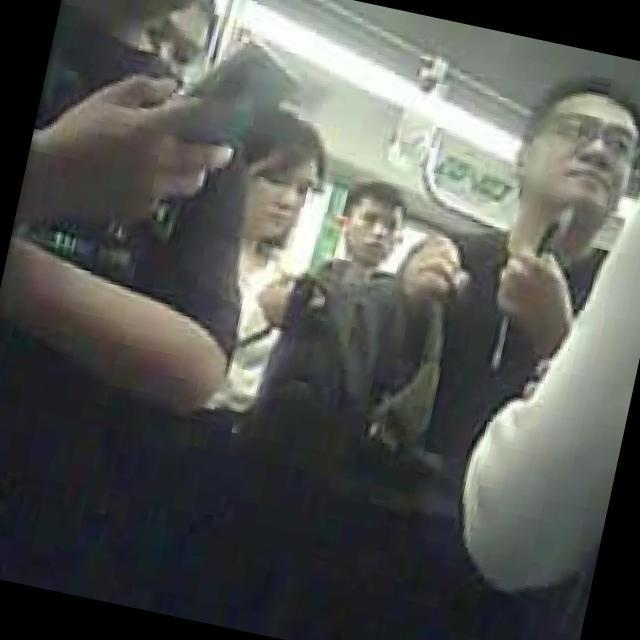person: (316, 45, 640, 640), (0, 0, 305, 581), (415, 66, 640, 640), (172, 103, 338, 444), (280, 170, 424, 440)
